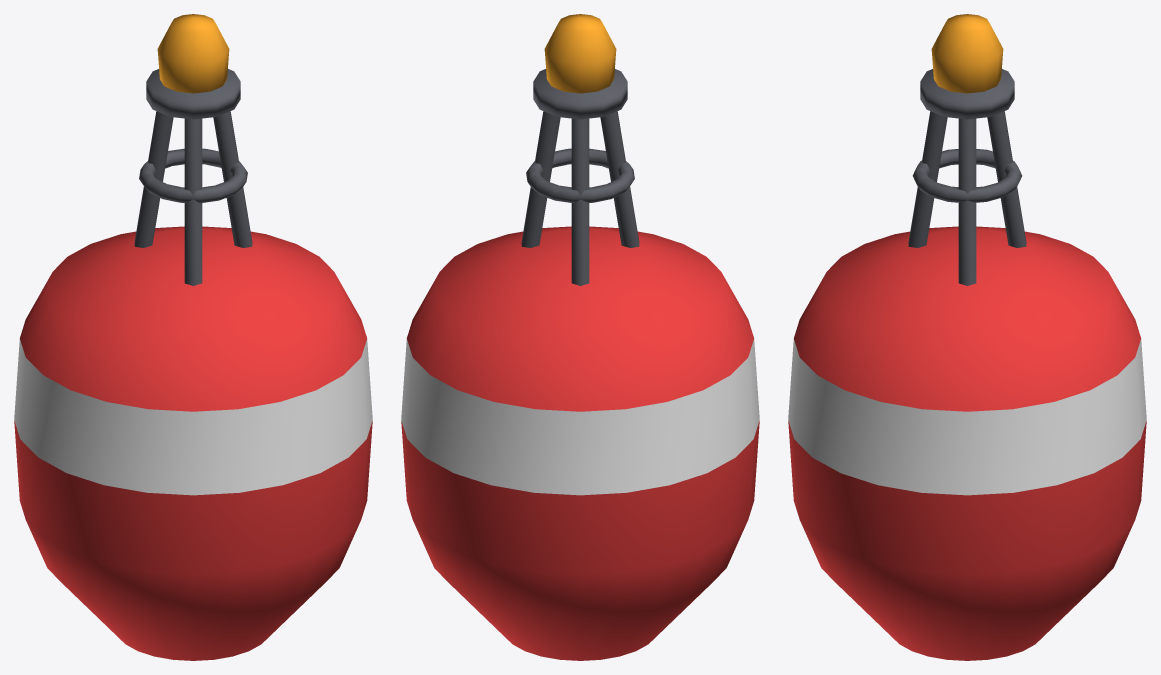
The model's file is BumperBuoy.obj.
The picture shows the model from 3 angles, left to right: view 1: azimuth 30°, elevation 25°; view 2: azimuth 150°, elevation 25°; view 3: azimuth 270°, elevation 25°; orthographic projection.
Parts seen in each view (by area): view 1: Red, White, Metal, Lamp; view 2: Red, White, Metal, Lamp; view 3: Red, White, Metal, Lamp.
Boxes of the visible parts, x1=… form: Red: x1=14, y1=226, x2=372, y2=660; White: x1=14, y1=339, x2=372, y2=495; Metal: x1=134, y1=69, x2=252, y2=286; Lamp: x1=157, y1=14, x2=229, y2=93; Red: x1=401, y1=226, x2=759, y2=660; White: x1=401, y1=339, x2=759, y2=495; Metal: x1=521, y1=69, x2=639, y2=286; Lamp: x1=544, y1=14, x2=616, y2=93; Red: x1=788, y1=226, x2=1146, y2=660; White: x1=788, y1=339, x2=1146, y2=495; Metal: x1=908, y1=69, x2=1026, y2=285; Lamp: x1=931, y1=14, x2=1003, y2=93.
Bounding box in the file's own units: 3.2 × 6.15 × 3.2.
